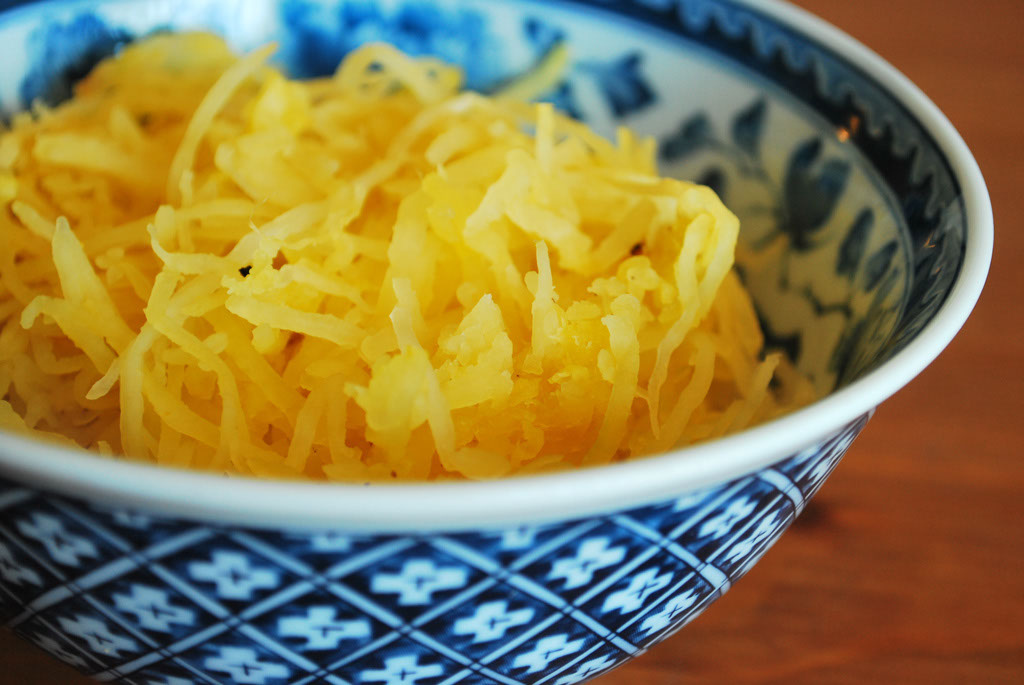plain spaghetti: (1, 89, 726, 438)
